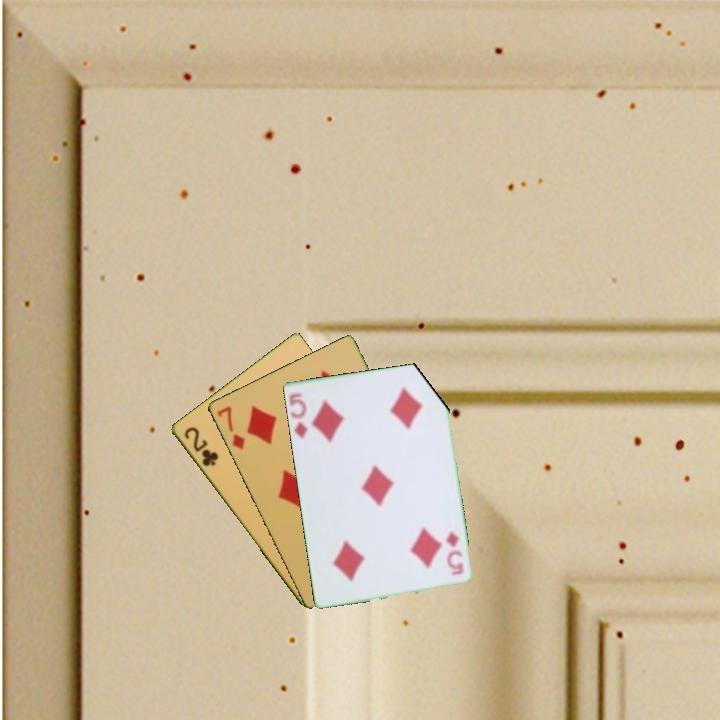2c: (180, 423, 221, 469)
5d: (285, 389, 310, 441), (442, 526, 466, 577)
7d: (213, 402, 248, 453)
